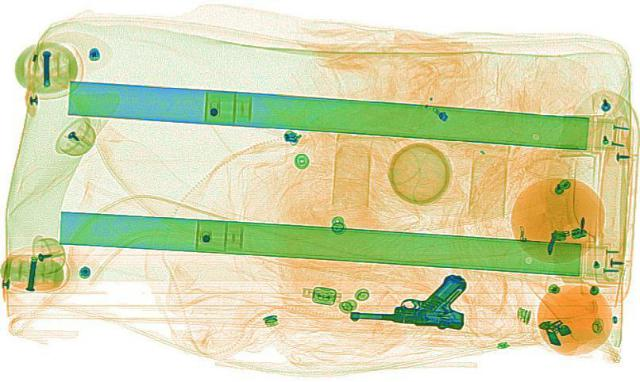Gun: (344, 266, 476, 325)
